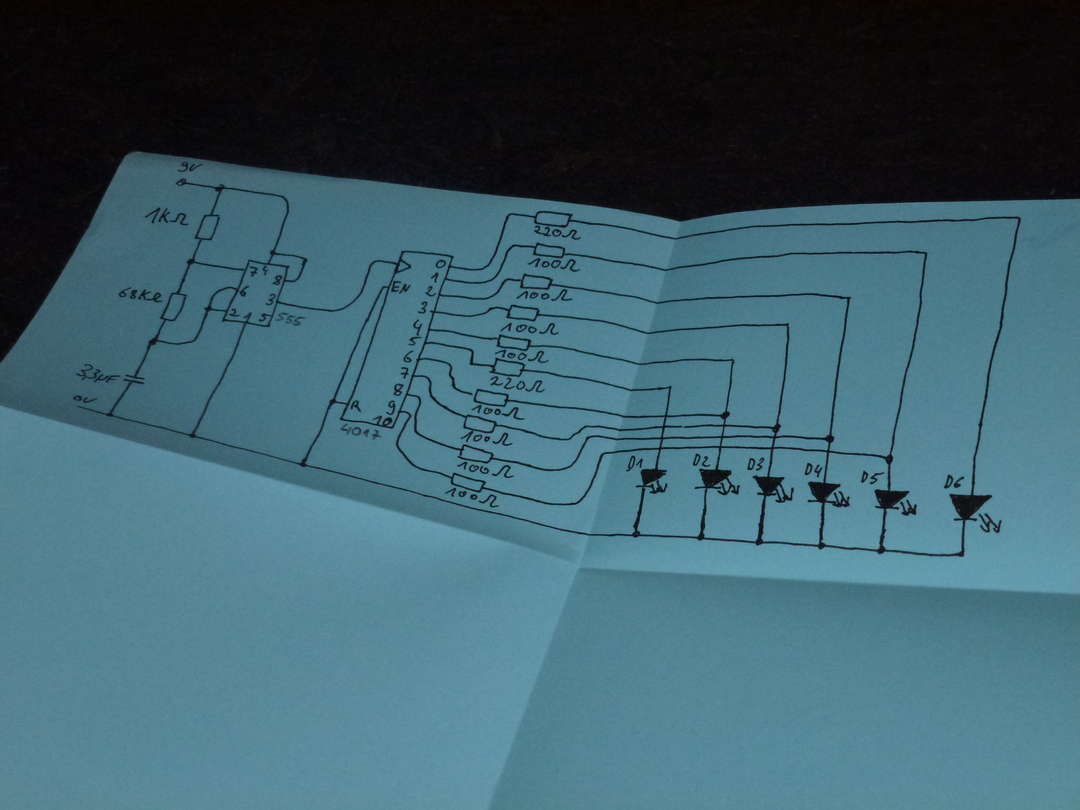capacitor.unpolarized: (122, 371, 147, 389)
crossover: (661, 412, 671, 419), (659, 423, 669, 430), (770, 433, 780, 440), (658, 434, 666, 441), (657, 445, 665, 452), (717, 444, 725, 451), (769, 445, 777, 452), (721, 422, 728, 429), (719, 433, 726, 440), (825, 448, 832, 455)
diode.light_emitting: (948, 493, 1002, 534), (873, 488, 918, 517), (694, 468, 740, 496), (807, 481, 851, 508), (752, 475, 794, 503), (634, 468, 668, 495)
integrated_circuit: (339, 249, 455, 431)
integrated_cricuit.ne555: (221, 259, 290, 328)
junction: (331, 293, 362, 313), (563, 492, 590, 507), (276, 194, 291, 213), (426, 390, 440, 408), (479, 258, 493, 272), (394, 438, 404, 455), (422, 371, 436, 383), (412, 426, 423, 440), (584, 421, 600, 430), (875, 545, 888, 556), (884, 453, 895, 466), (506, 241, 517, 254), (487, 271, 498, 284), (447, 382, 460, 393), (214, 183, 227, 194), (185, 337, 199, 347), (213, 286, 228, 295), (631, 529, 643, 540), (754, 536, 765, 548), (719, 409, 731, 420), (503, 210, 515, 221), (185, 257, 198, 267), (472, 310, 486, 319), (771, 422, 782, 433), (824, 433, 835, 444), (147, 336, 159, 346), (444, 359, 454, 371), (367, 258, 378, 268), (696, 532, 707, 542), (957, 548, 967, 559), (413, 392, 423, 403), (487, 291, 499, 300), (327, 397, 337, 407), (188, 430, 198, 440), (598, 450, 608, 460), (299, 256, 310, 265), (816, 541, 827, 550), (565, 461, 576, 470), (268, 248, 278, 257), (299, 459, 308, 469), (921, 248, 930, 258), (1014, 213, 1024, 222), (466, 345, 476, 354), (467, 358, 476, 368), (292, 275, 301, 284), (585, 432, 594, 441), (105, 409, 114, 418), (203, 305, 213, 313), (405, 410, 413, 420), (783, 320, 792, 328), (564, 434, 573, 442), (502, 276, 511, 284), (844, 294, 852, 302), (729, 356, 737, 364), (667, 383, 675, 391), (490, 304, 498, 312), (380, 284, 386, 291)
resistor: (159, 291, 188, 323), (448, 471, 487, 494), (470, 387, 512, 408), (456, 443, 495, 465), (461, 412, 498, 435), (193, 213, 222, 242), (489, 357, 527, 379), (532, 209, 574, 228), (495, 333, 534, 352), (505, 303, 541, 322), (519, 272, 554, 291), (532, 241, 566, 260)
terminal: (175, 177, 188, 188), (75, 404, 83, 410)
text: (445, 487, 499, 508), (457, 461, 515, 479), (74, 363, 120, 385), (144, 206, 190, 227), (490, 376, 545, 393), (495, 349, 549, 364), (118, 286, 163, 304), (472, 405, 524, 420), (534, 225, 582, 241), (500, 322, 559, 335), (461, 431, 512, 446), (339, 423, 381, 441), (516, 289, 573, 302), (528, 258, 580, 272), (276, 312, 306, 326), (860, 469, 885, 485), (943, 474, 967, 490), (625, 454, 644, 472), (691, 452, 712, 468), (177, 160, 202, 173), (746, 456, 765, 472), (804, 462, 823, 478), (71, 393, 98, 404), (390, 280, 411, 294), (372, 415, 392, 427), (412, 318, 425, 335), (416, 300, 429, 315), (408, 335, 421, 348), (402, 350, 415, 363), (399, 365, 410, 380), (386, 399, 396, 415), (393, 382, 404, 396), (258, 312, 272, 323), (239, 285, 250, 298), (265, 293, 276, 306), (425, 284, 436, 297), (351, 400, 362, 412), (272, 274, 283, 286), (435, 258, 447, 269), (249, 265, 258, 278), (244, 311, 253, 322), (229, 308, 240, 317), (431, 272, 439, 284), (262, 265, 269, 276)
